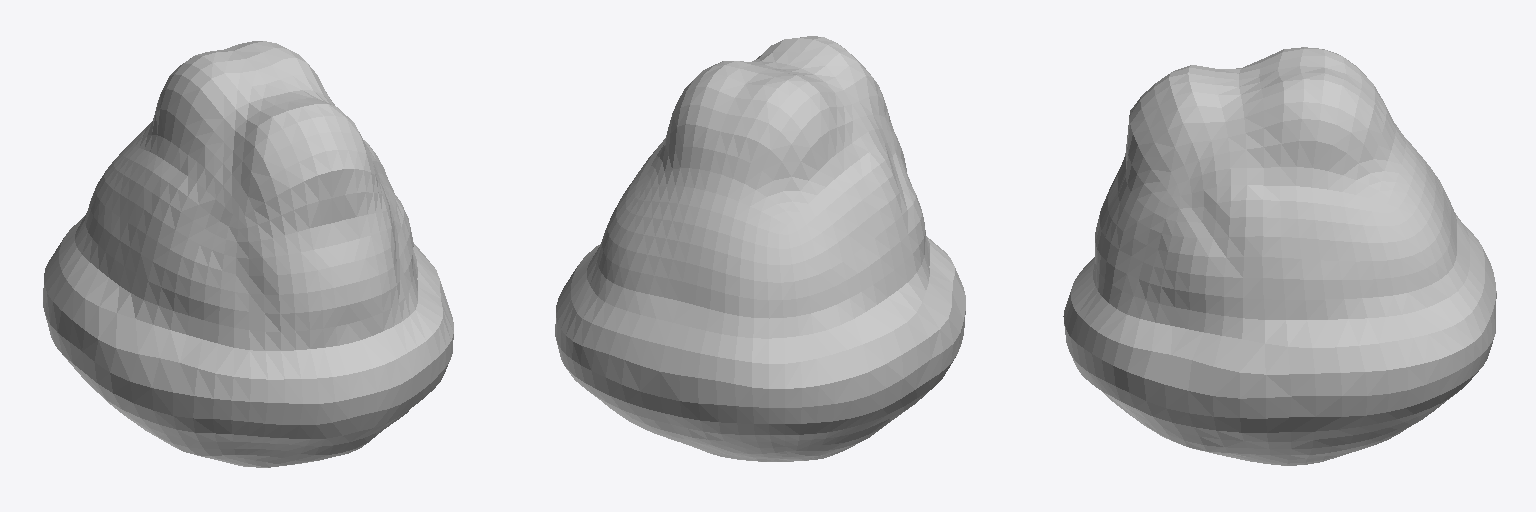
File: hipolyore.obj
The picture shows the model from 3 angles: view 1: azimuth 30°, elevation 25°; view 2: azimuth 150°, elevation 25°; view 3: azimuth 270°, elevation 25°; orthographic projection.
Bounding box in the file's own units: 0.856 × 0.9312 × 0.9522.